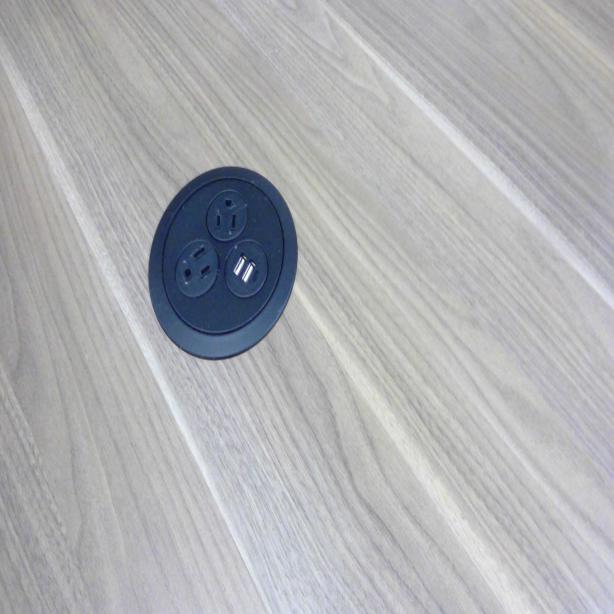typeb: (174, 236, 216, 299), (208, 190, 245, 237)
